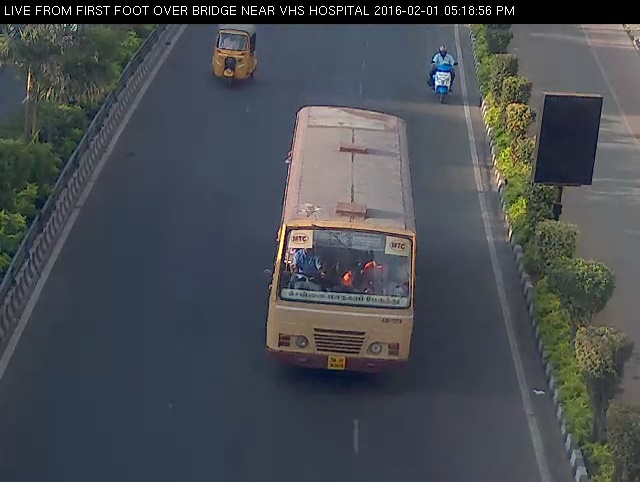Bus: (260, 94, 424, 399)
Car: (204, 20, 265, 93)
Person: (422, 38, 466, 107)
